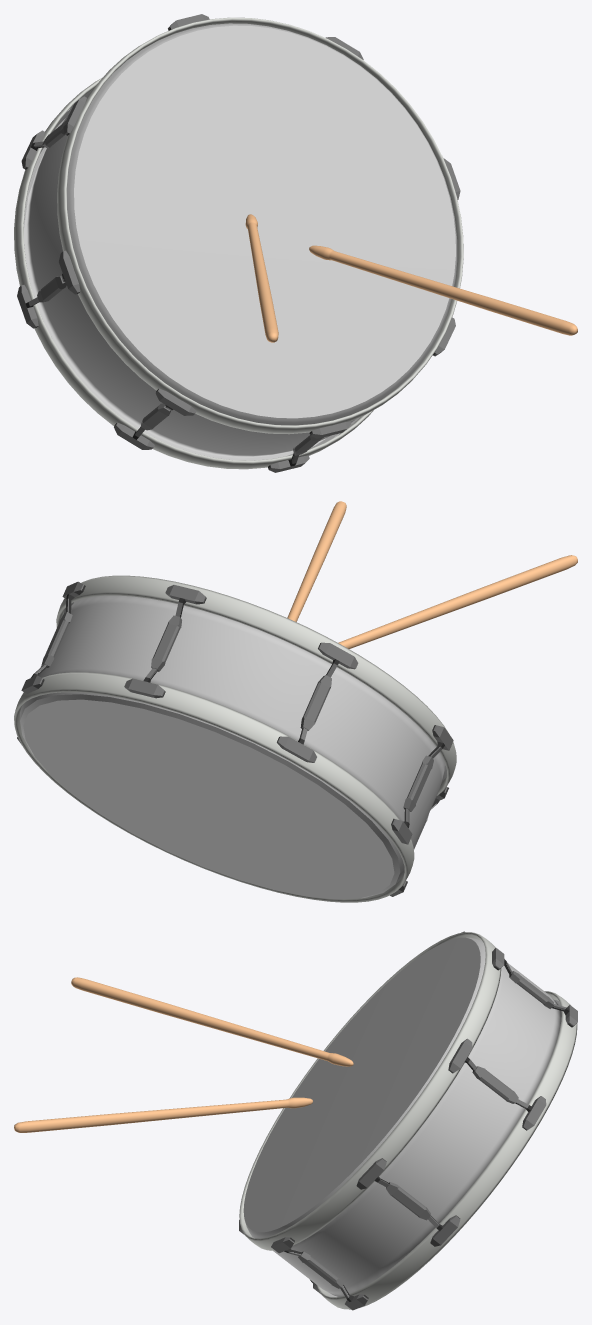
Rendered from Snare Low Poly.fbx.
3 renders of one model, top to bottom at view 1: azimuth 30°, elevation 25°; view 2: azimuth 150°, elevation 25°; view 3: azimuth 270°, elevation 25°, orthographic. The views are drawn at different scales.
Visible parts, largest first — view 1: snarer.002, rring, snarer, SStinger, Stick, snarer.001, Stick.001; view 2: snarer.001, snarer, rring, SStinger, Stick.001, Stick; view 3: snarer.002, snarer, rring, SStinger, Stick.001, Stick.
Boxes of the visible parts, x1,y1,x2,y2 form: snarer.002: (67, 23, 457, 425); rring: (14, 17, 463, 469); snarer: (26, 93, 355, 457); SStinger: (17, 14, 460, 472); Stick: (309, 245, 577, 335); snarer.001: (23, 90, 358, 460); Stick.001: (245, 214, 278, 342); snarer.001: (20, 692, 404, 899); snarer: (38, 595, 444, 847); rring: (14, 575, 456, 902); SStinger: (17, 581, 453, 896); Stick.001: (338, 555, 577, 648); Stick: (287, 501, 346, 621); snarer.002: (243, 937, 485, 1238); snarer: (273, 963, 561, 1296); rring: (239, 932, 577, 1309); SStinger: (239, 931, 577, 1310); Stick.001: (71, 977, 353, 1066); Stick: (14, 1097, 312, 1132).
Bounding box in the file's own units: 210 × 197 × 300.
